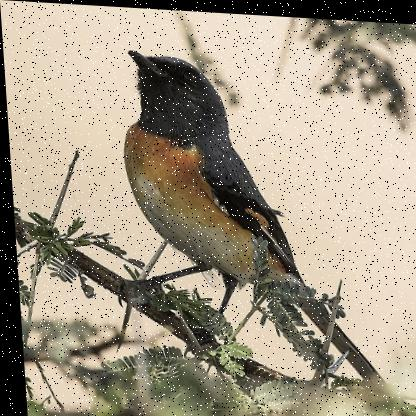Burung: (117, 48, 379, 377)
